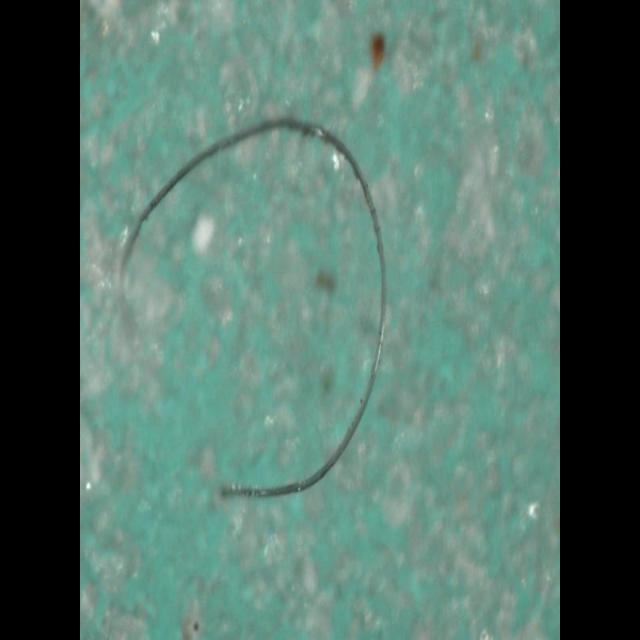Fibre: (116, 114, 388, 500)
